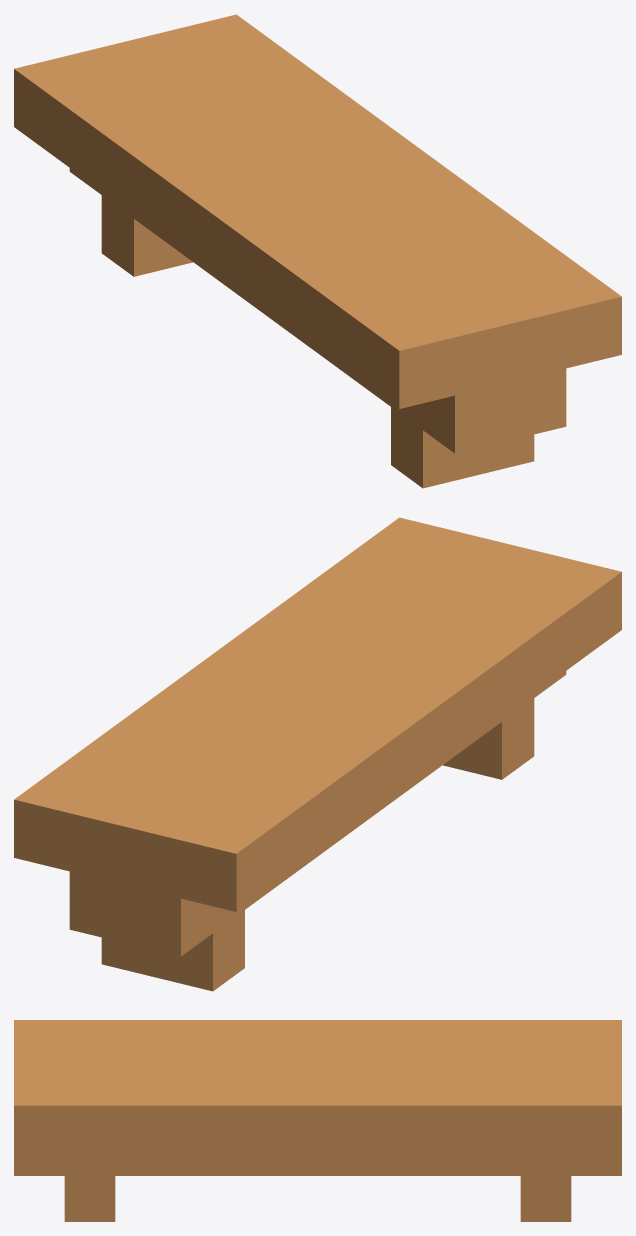
The model's file is LogBench.obj.
3 views of the same model, one above another, from view 1: azimuth 30°, elevation 25°; view 2: azimuth 150°, elevation 25°; view 3: azimuth 270°, elevation 25° (orthographic). The views are drawn at different scales.
Bounding box in the file's own units: 0.4 × 0.3 × 1.2.
Materials: 1 (1 with a texture image).
